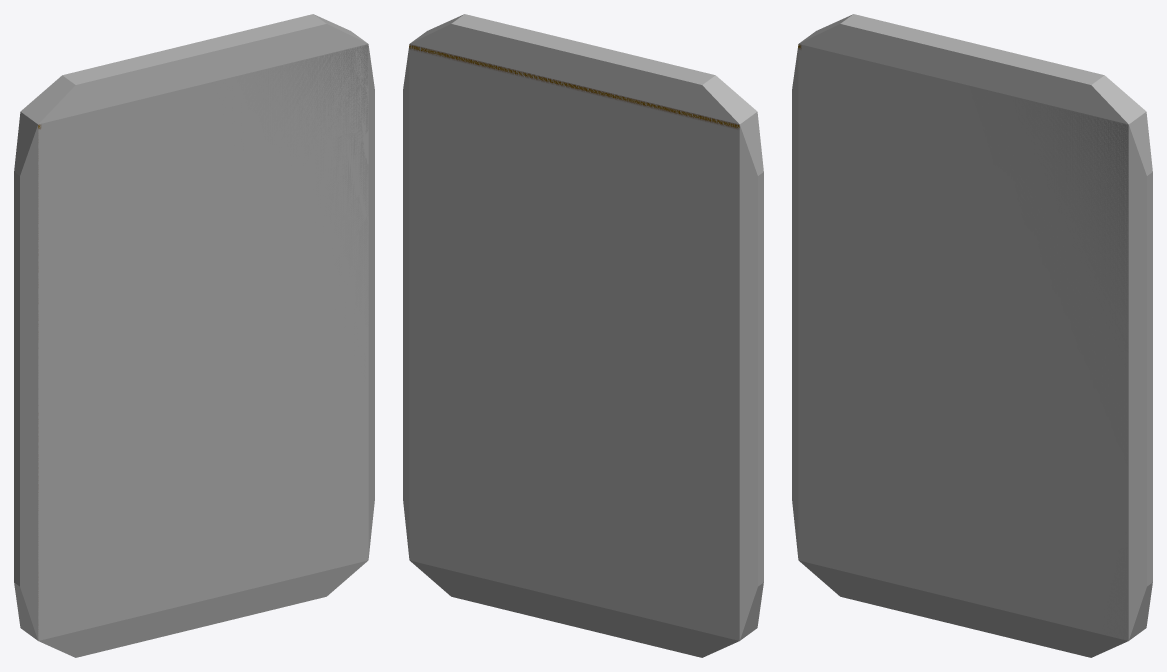
Rendered from cardBase.fbx.
The picture shows the model from 3 angles, left to right: view 1: azimuth 30°, elevation 25°; view 2: azimuth 150°, elevation 25°; view 3: azimuth 330°, elevation 25°; orthographic projection.
Visible parts, largest first — view 1: Card; view 2: Card; view 3: Card.
Part boxes in pixels (bbox=[...]): Card: bbox=[14, 14, 374, 657]; Card: bbox=[403, 14, 763, 657]; Card: bbox=[792, 14, 1152, 657].
Size of the model in its own units: 448 by 690 by 38.74.
Materials: 1 (1 with a texture image).
